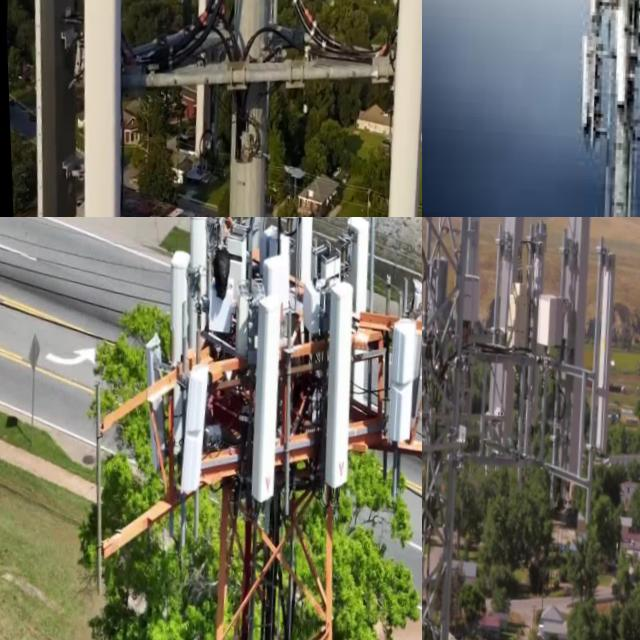GSM Antenna: (547, 217, 607, 483), (482, 217, 533, 458), (27, 0, 83, 217), (311, 274, 364, 499), (512, 217, 556, 480), (237, 291, 291, 504), (176, 0, 233, 172), (76, 0, 120, 217), (587, 225, 626, 448), (377, 308, 422, 454), (168, 359, 214, 500), (132, 329, 167, 474), (161, 241, 196, 371), (457, 217, 490, 337), (338, 217, 373, 316), (249, 0, 290, 76), (602, 0, 631, 104), (180, 217, 213, 301), (572, 30, 594, 128)
